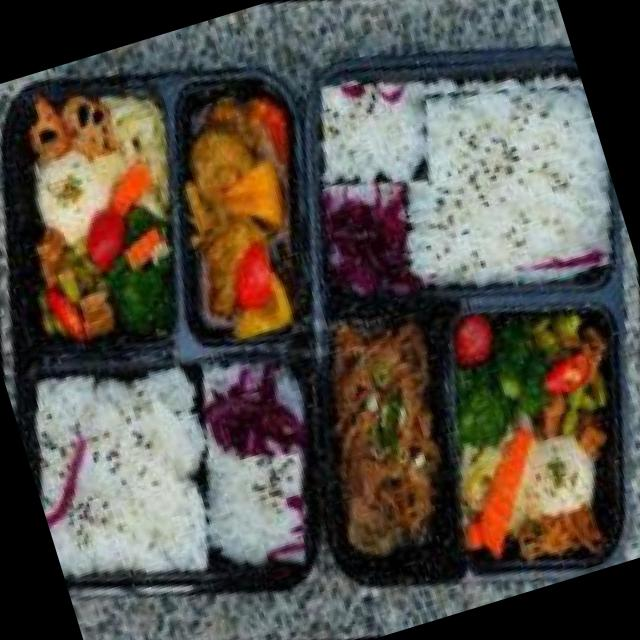rice: (357, 35, 637, 327), (3, 320, 262, 614), (172, 432, 334, 594), (294, 55, 454, 212)
